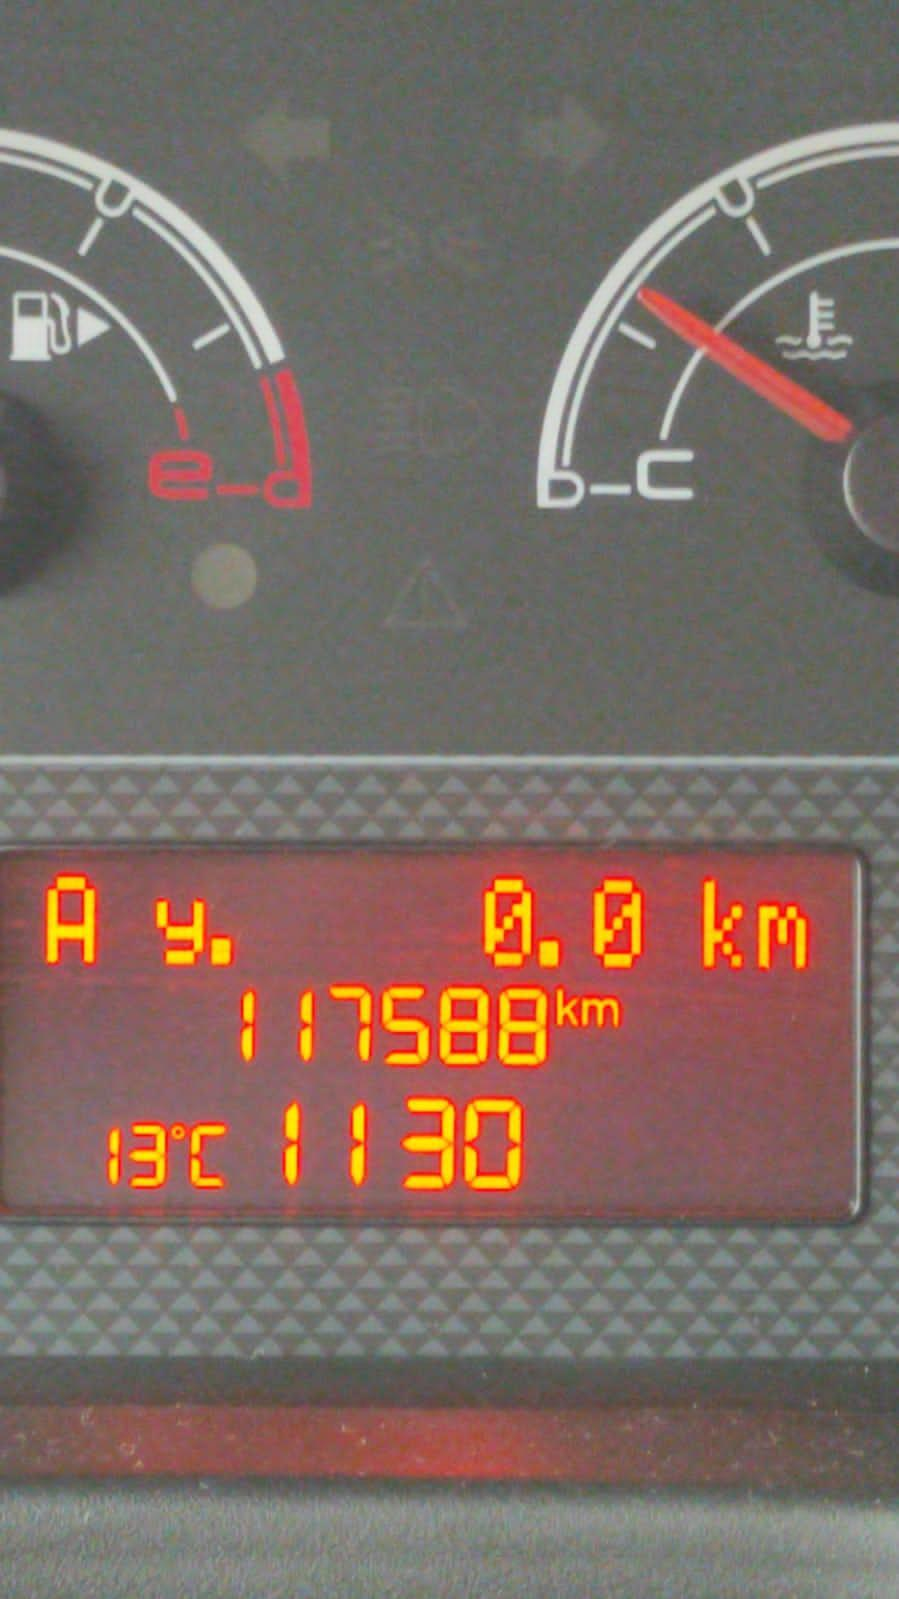,: (206, 927, 237, 969), (535, 935, 564, 972)
0: (460, 1091, 528, 1194), (585, 869, 647, 973), (477, 869, 535, 974)
1: (341, 1091, 375, 1192), (273, 1094, 307, 1192), (231, 979, 263, 1067), (292, 983, 321, 1070), (99, 1120, 124, 1190)
3: (395, 1092, 457, 1194), (127, 1119, 167, 1194)
5: (379, 980, 432, 1071)
7: (322, 975, 375, 1066)
8: (436, 982, 493, 1067), (497, 982, 549, 1070)
X: (38, 868, 100, 970), (694, 869, 748, 975), (749, 895, 810, 975), (150, 891, 206, 969), (187, 1116, 231, 1193), (580, 992, 623, 1032), (555, 975, 580, 1031)
odometer: (0, 824, 883, 1246)
